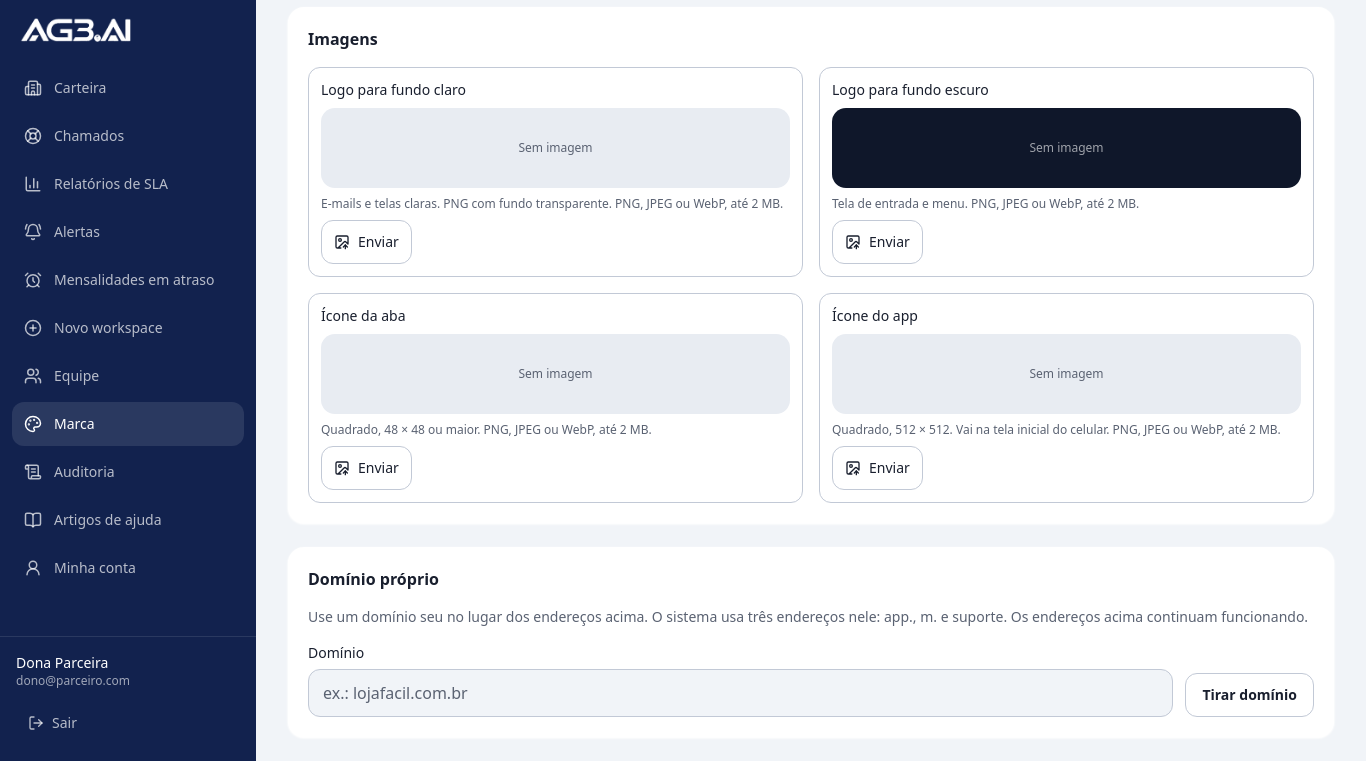
Test case: página da marca › pede o domínio próprio e mostra os registros de DNS
The width and height of the screenshot is (1366, 761).
(page scrolled)
Type "lojafacil.com.br" into the field labelled "Domínio".
click(741, 693); type("lojafacil.com.br")  # box [308,669,1173,717]
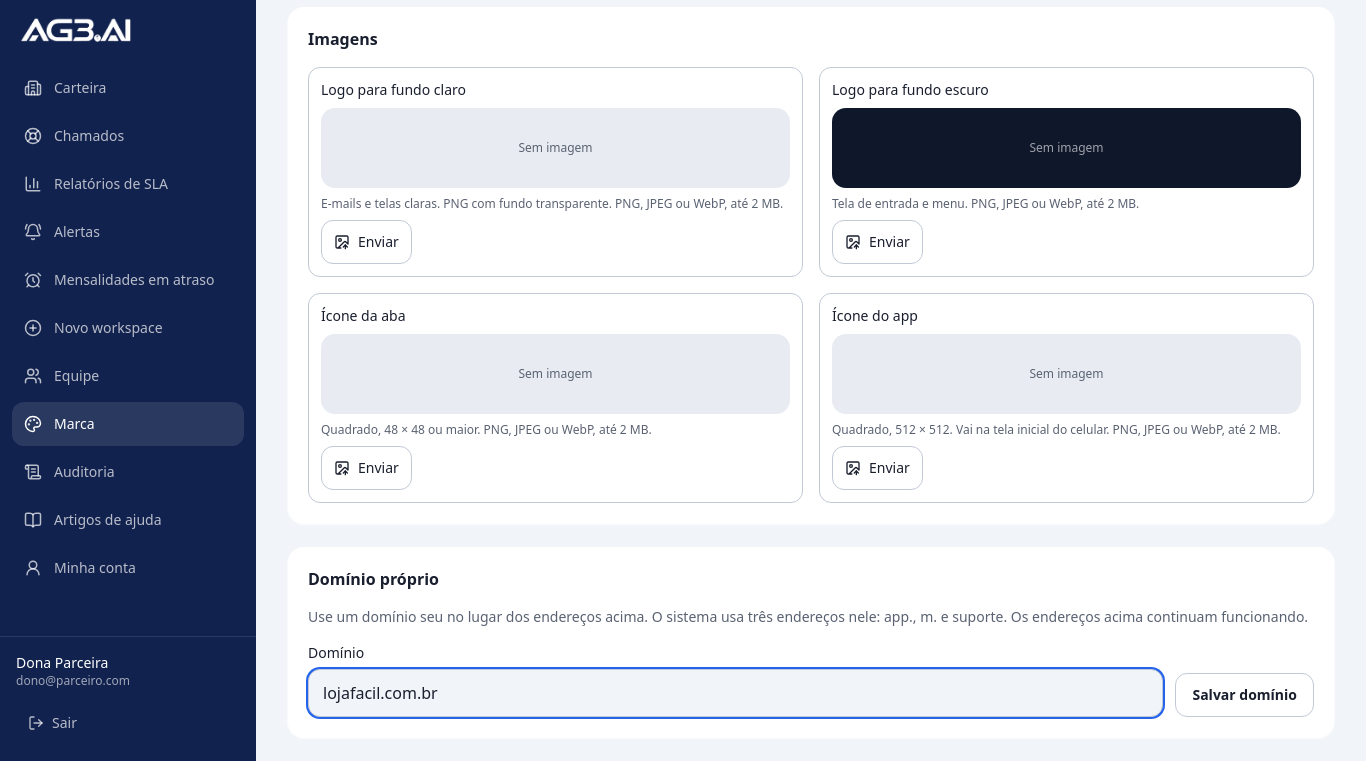
Click the button "Salvar domínio".
click(1245, 695)  # box [1176,673,1314,717]
(page scrolled)
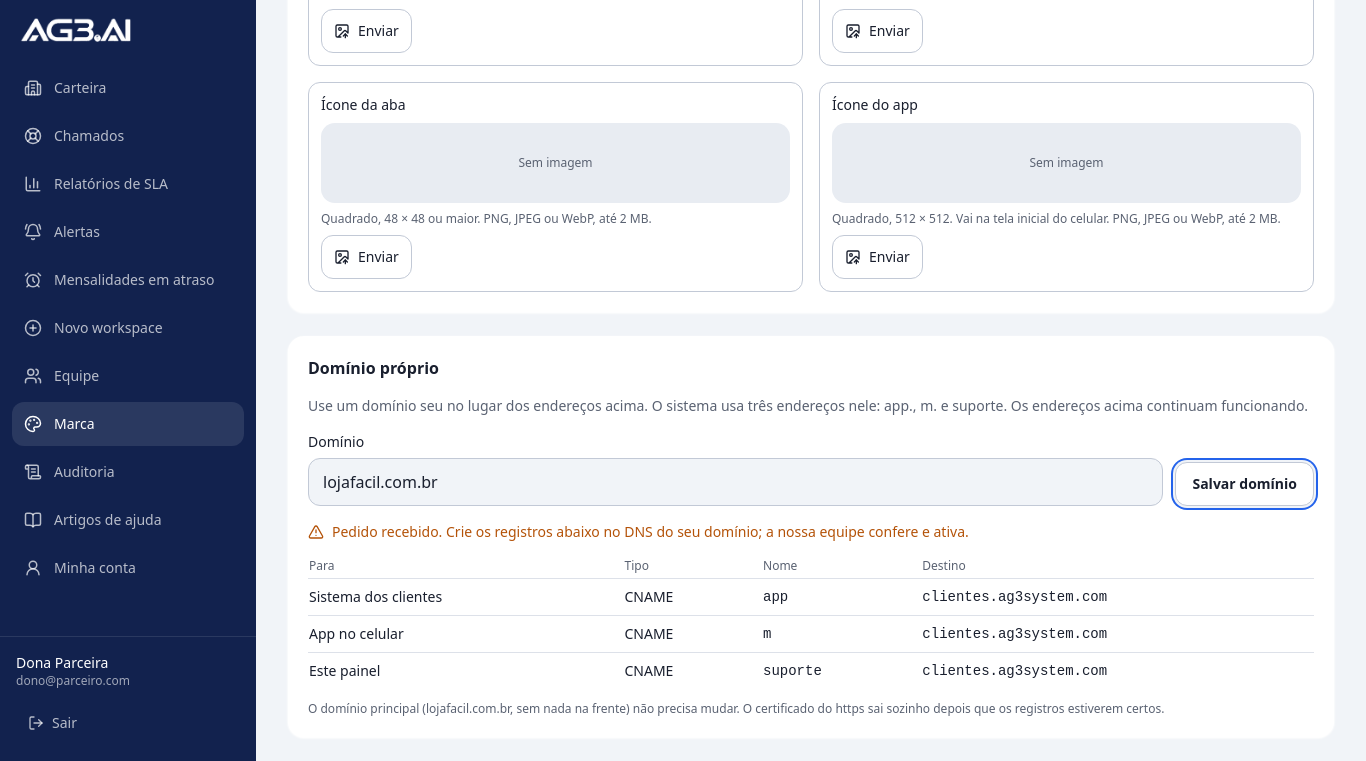
Expected: the text "Pedido recebido" is shown, [332,522,969,541]
Expected: the text "clientes.ag3system.com" is shown 3 times, [921,578,1314,616]; [921,616,1314,652]; [921,652,1314,689]
Expected: the text "suporte" is shown, [762,652,921,689]
